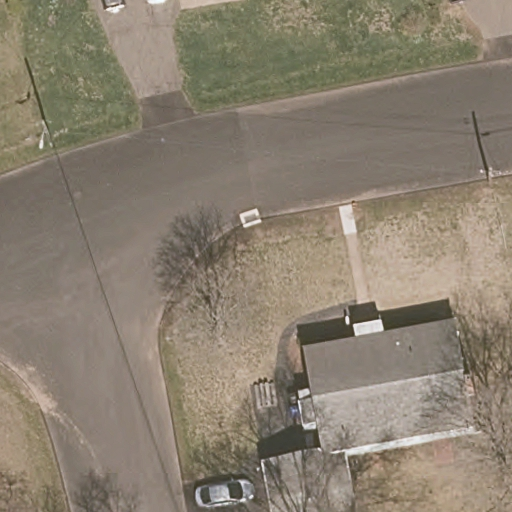DT: (36, 118, 66, 149), (478, 166, 503, 186)
